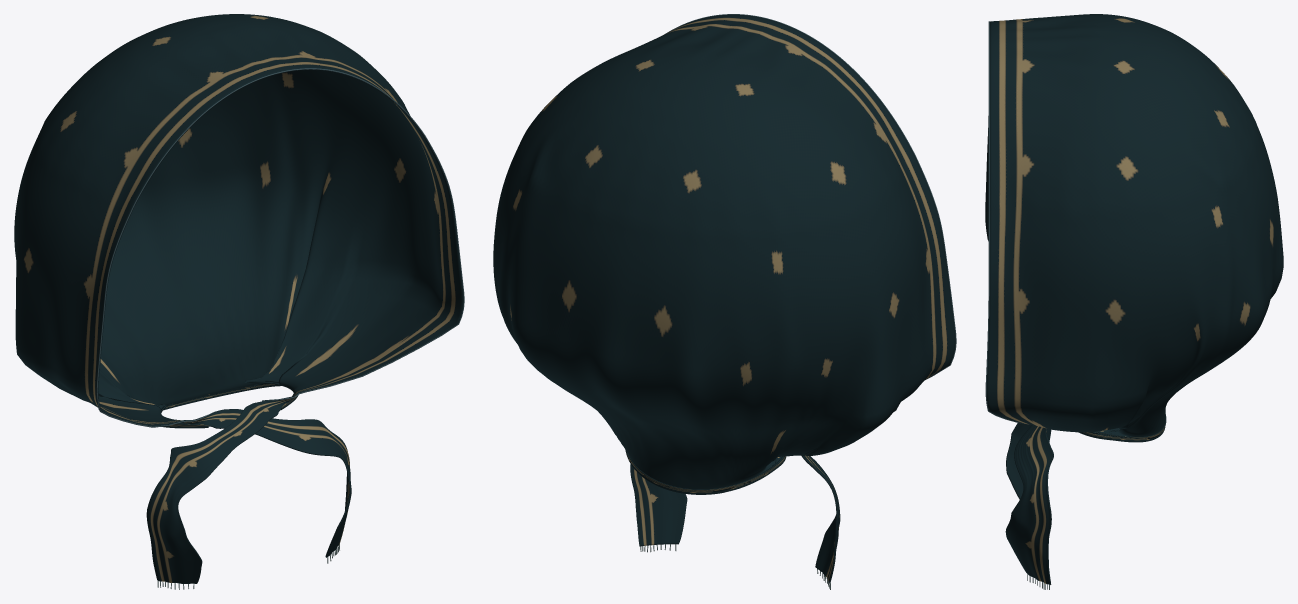
Rendered from Feminine-triangle-compact-pashmina248-headgear.glb.
The picture shows the model from 3 angles, left to right: view 1: azimuth 30°, elevation 25°; view 2: azimuth 150°, elevation 25°; view 3: azimuth 270°, elevation 25°; orthographic projection. The views are drawn at different scales.
Parts seen in each view (by area): view 1: 226 headgear / Headwear / continuous woven pashmina239, 226 headgear / Headwear / face edge239; view 2: 226 headgear / Headwear / continuous woven pashmina239, 226 headgear / Headwear / face edge239; view 3: 226 headgear / Headwear / continuous woven pashmina239, 226 headgear / Headwear / face edge239.
Part boxes in pixels (<box>): 226 headgear / Headwear / continuous woven pashmina239: <box>14,14,463,583</box>; 226 headgear / Headwear / face edge239: <box>96,68,464,427</box>; 226 headgear / Headwear / continuous woven pashmina239: <box>493,14,955,583</box>; 226 headgear / Headwear / face edge239: <box>664,14,956,379</box>; 226 headgear / Headwear / continuous woven pashmina239: <box>985,14,1283,584</box>; 226 headgear / Headwear / face edge239: <box>985,21,1028,424</box>.
Size of the model in its own units: 1.02 by 1.35 by 0.7112.
3 materials, 1 textured.
